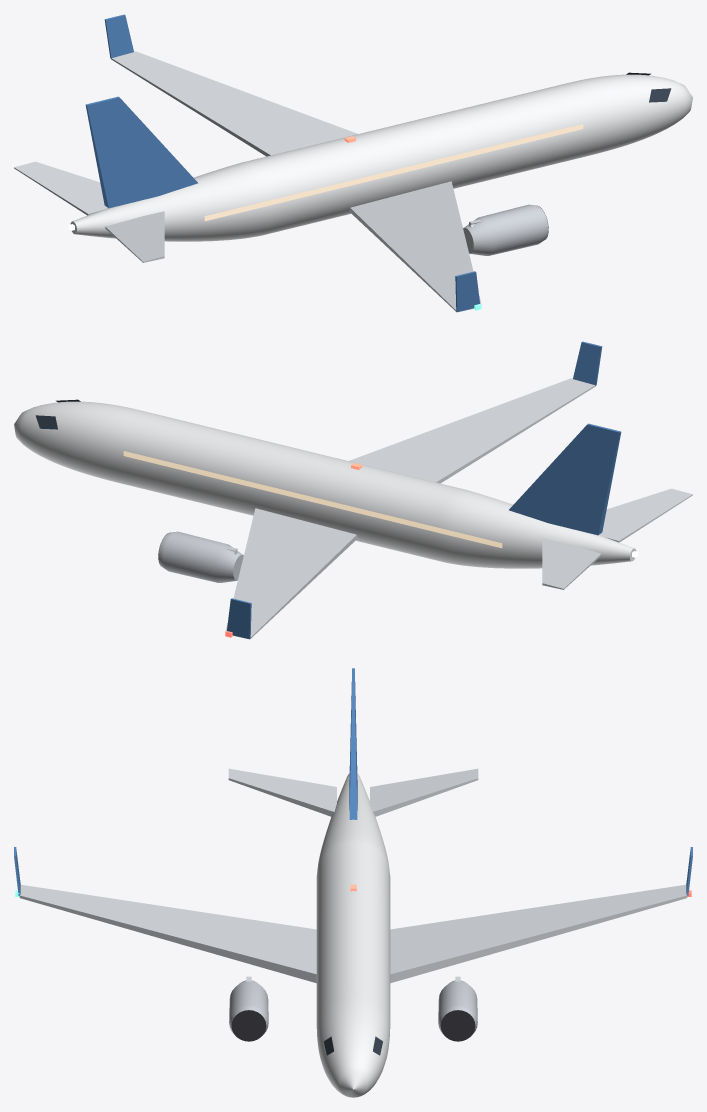
3 renders of one model, top to bottom at view 1: azimuth 30°, elevation 25°; view 2: azimuth 150°, elevation 25°; view 3: azimuth 270°, elevation 25°, orthographic. The views are drawn at different scales.
Parts seen in each view (by area): view 1: airliner; view 2: airliner; view 3: airliner.
Part boxes in pixels (x1,y1,x2,y2): airliner: [14, 14, 692, 312]; airliner: [14, 341, 692, 639]; airliner: [14, 668, 692, 1097].
Size of the model in its own units: 37.82 by 11.28 by 37.02.
